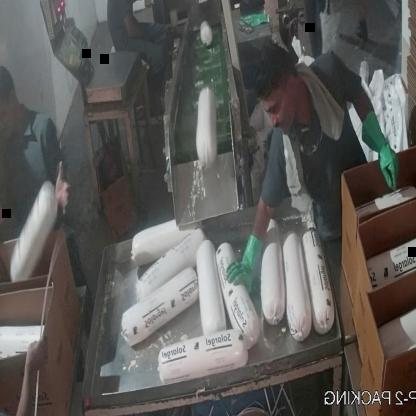glove: (356, 112, 399, 193), (222, 224, 267, 299)
no_glove: (44, 150, 90, 239)
